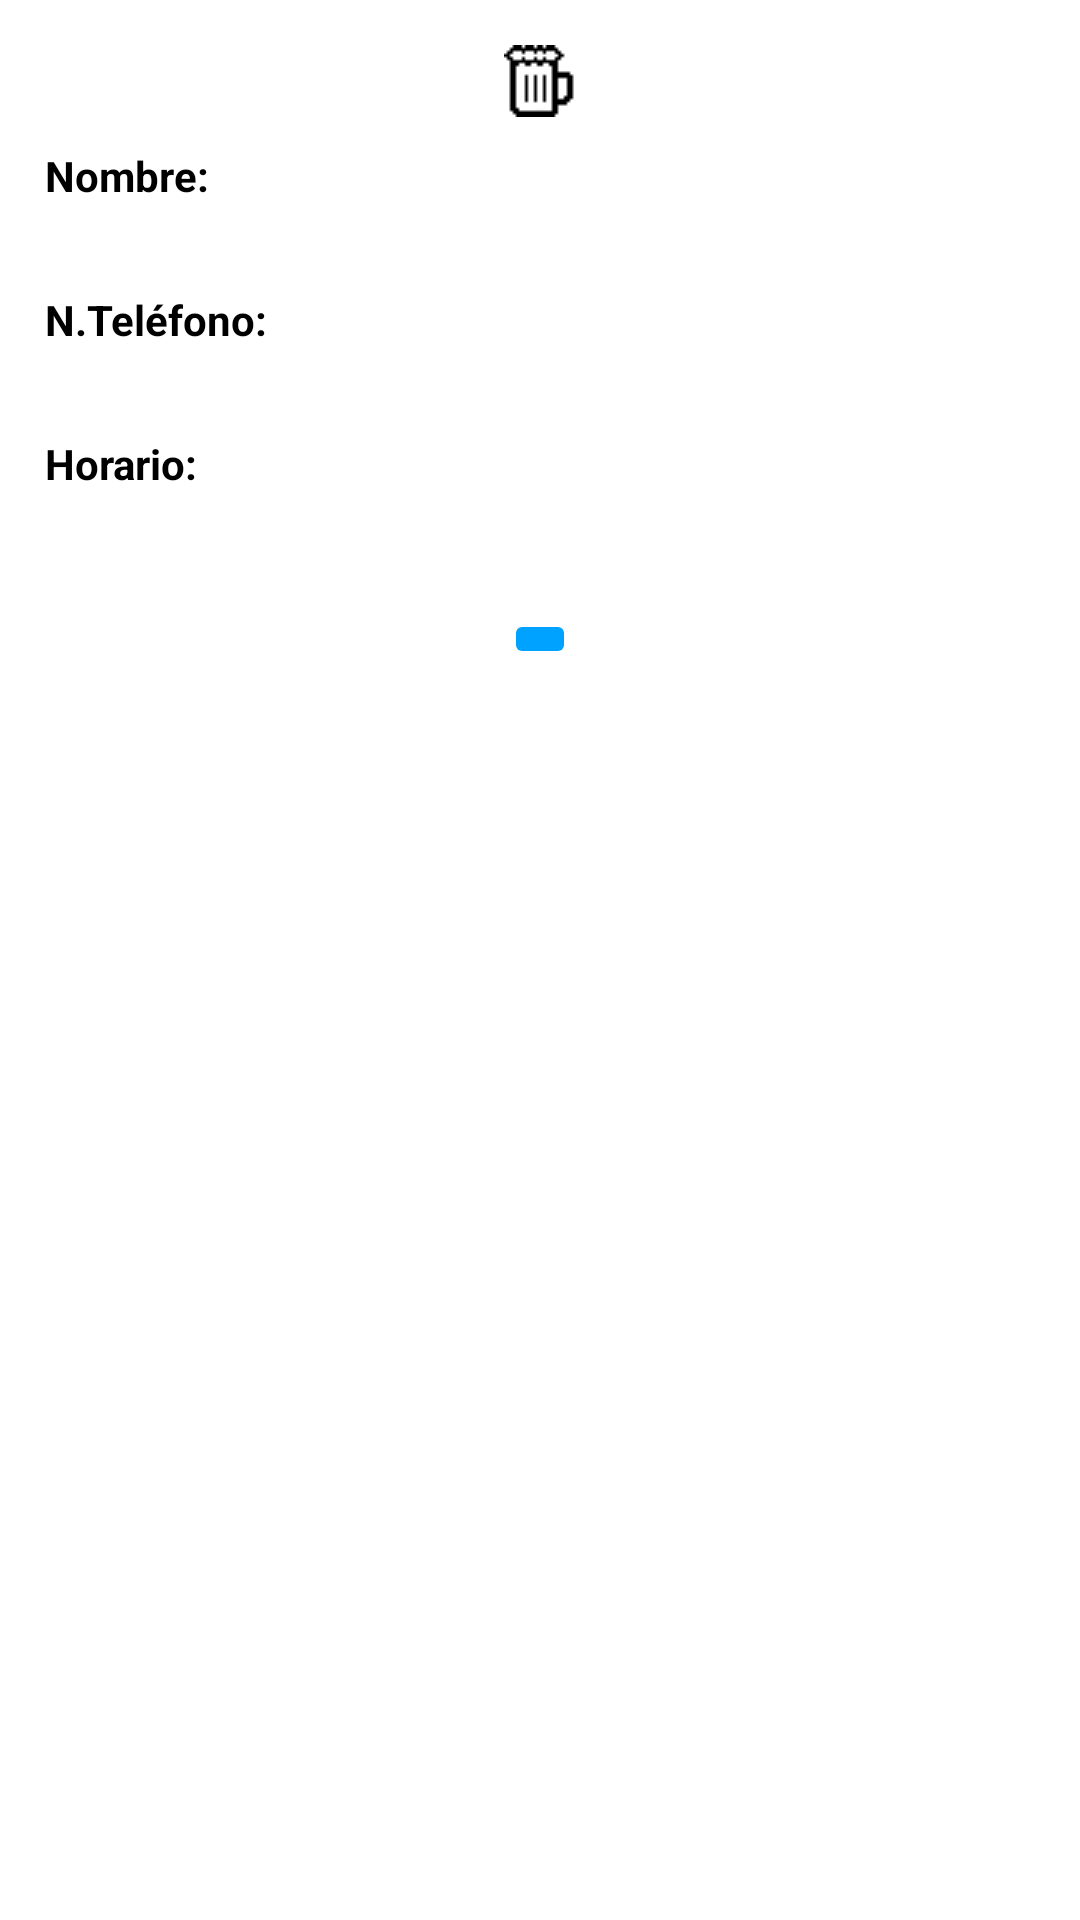

Icons on this 1080 × 1920 Android screen, each with its box as (x1=x1, y1=y1, x2=x2, y2=y2):
bar negro: (x1=504, y1=45, x2=574, y2=117)
